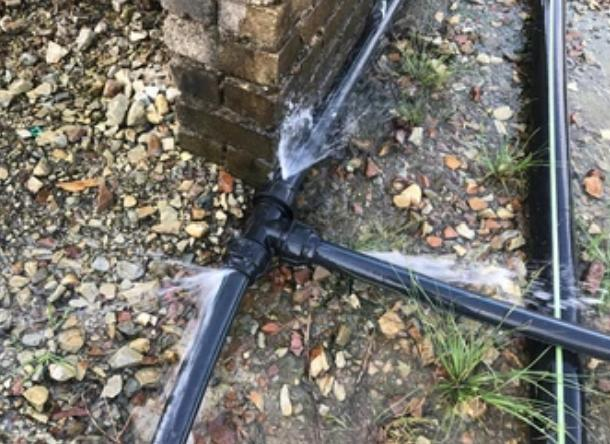pipe burst: (342, 248, 567, 310), (129, 254, 238, 378), (277, 95, 371, 185)
